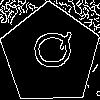Q: (25, 29, 74, 71)
